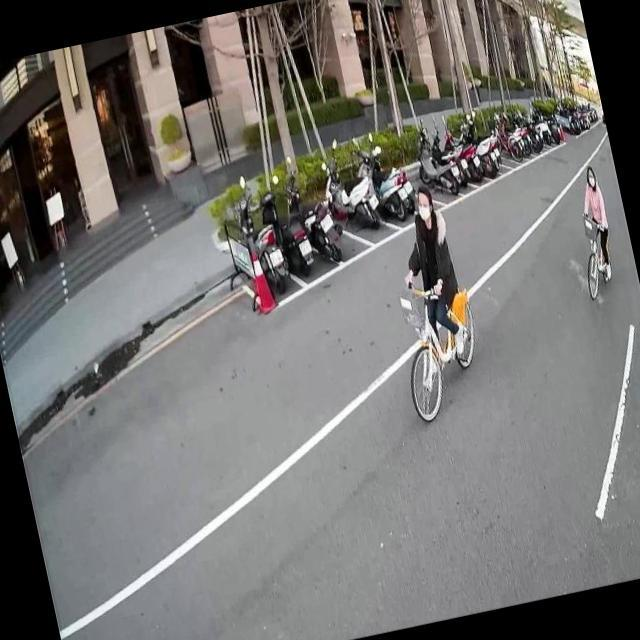person: (381, 173, 478, 380), (567, 156, 622, 286)
